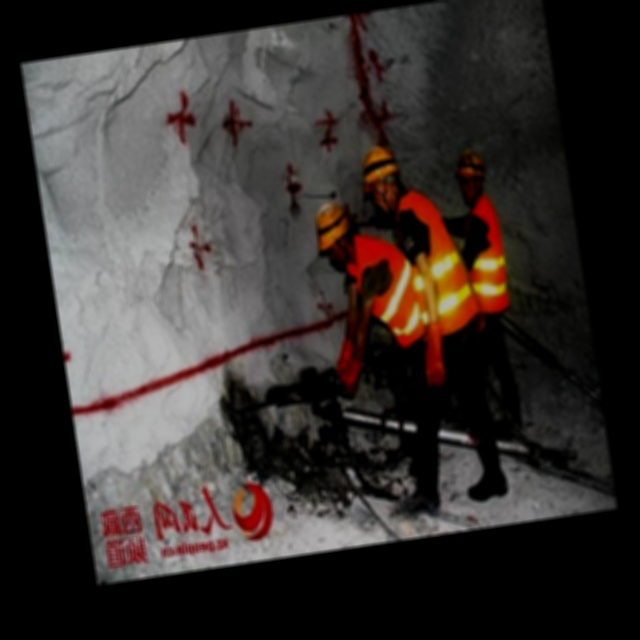Con_Casco: (354, 143, 401, 216)
Con_Chaleco: (394, 186, 476, 332), (347, 226, 423, 347), (455, 199, 513, 314)
